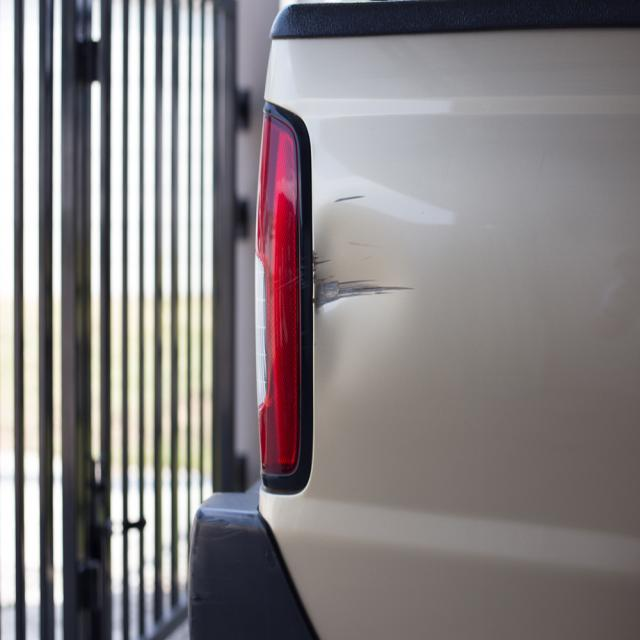dent: (313, 211, 406, 389)
